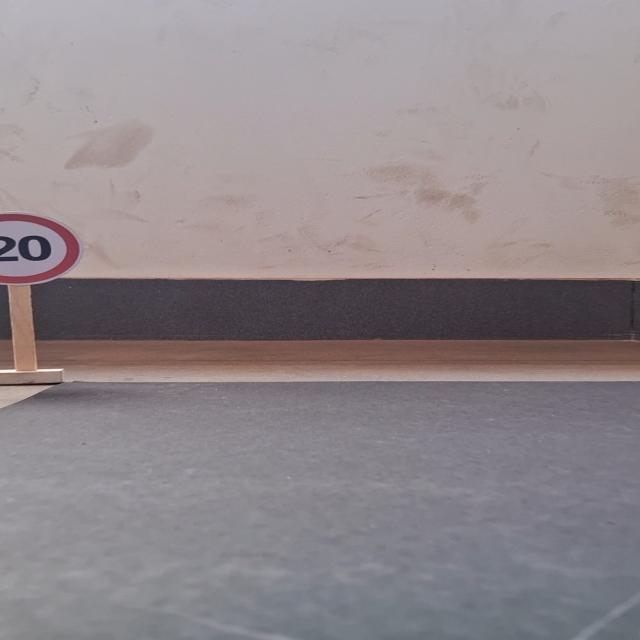Speed20: (0, 203, 85, 294)
